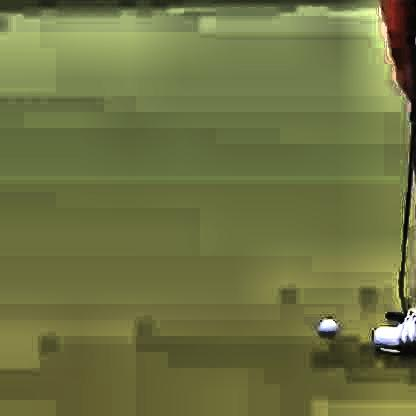golfball: (314, 314, 334, 334)
